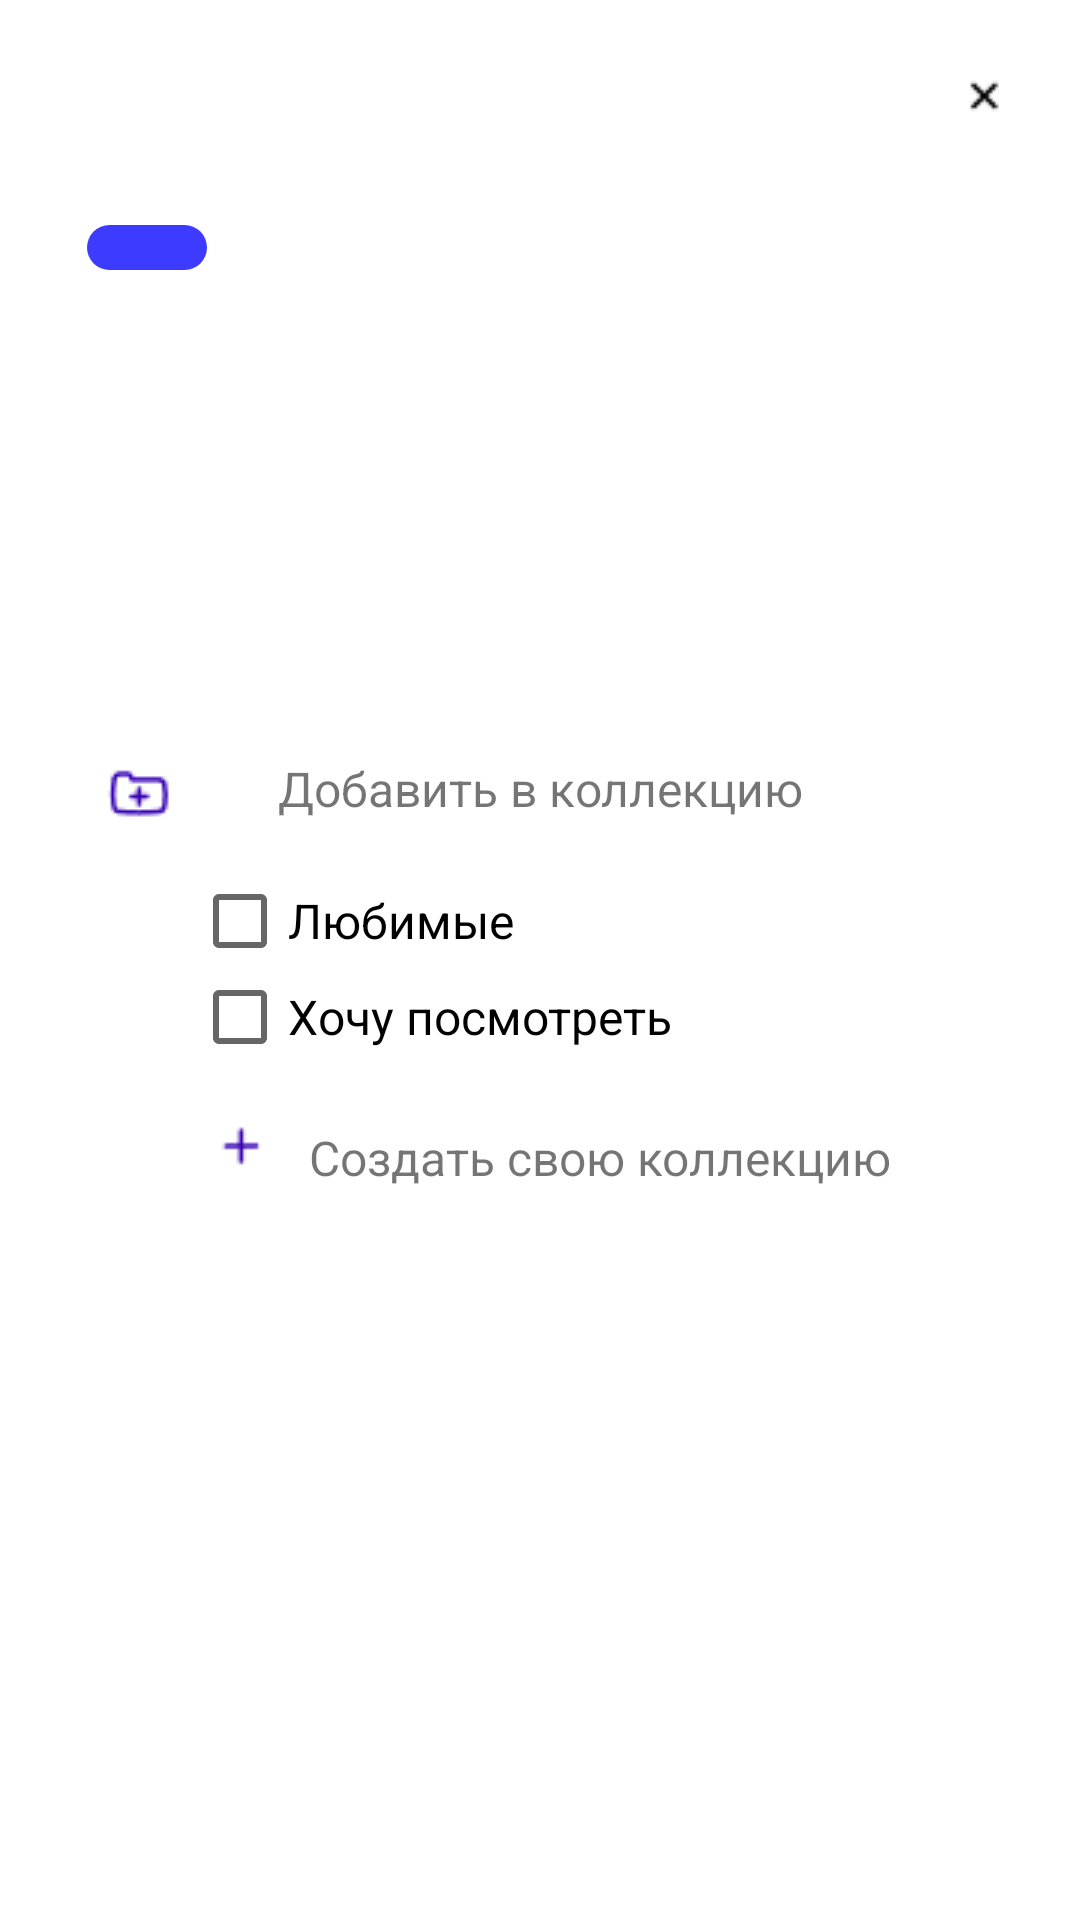

Where icons sit on this 1080w x 1920h app screen, as (x1, y1, x2, y2):
cross: (970, 82, 999, 110)
